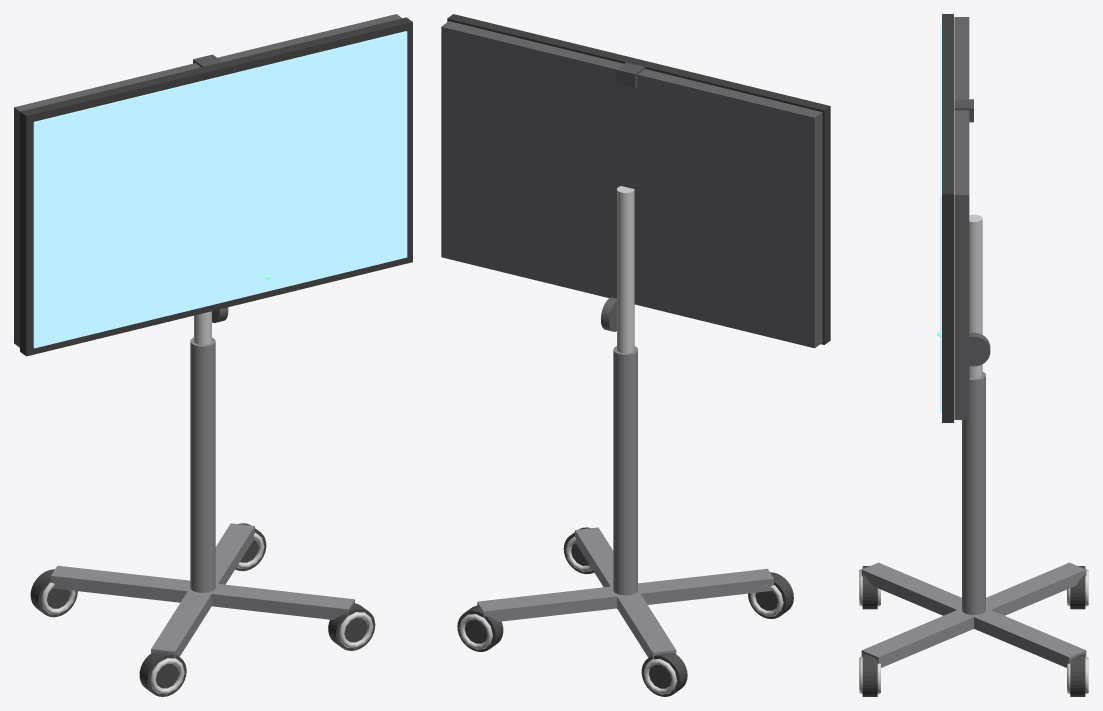
3 views of the same model, side by side, from view 1: azimuth 30°, elevation 25°; view 2: azimuth 150°, elevation 25°; view 3: azimuth 270°, elevation 25° (orthographic). The views are drawn at different scales.
Parts seen in each view (by area): view 1: TV_Screen, TV_Bezel, Pole_Fixed, Base_Y, TV_Back, Base_X, Caster_BR_Wheel, Caster_BL_Wheel, Caster_FR_Wheel; view 2: TV_Back, Base_X, Pole_Fixed, TV_Bezel, Base_Y, Pole_Inner, Caster_FR_Wheel, Caster_FL_Wheel, Caster_BR_Wheel; view 3: TV_Back, Pole_Fixed, Base_X, Base_Y, TV_Bezel, Pole_Inner, TV_Screen, Caster_FL_Wheel, Caster_BL_Wheel, Pole_Knob, Caster_FR_Wheel, Caster_BR_Wheel.
Boxes of the visible parts, x1=… form: TV_Screen: x1=33, y1=31, x2=407, y2=348; TV_Bezel: x1=20, y1=17, x2=412, y2=356; Pole_Fixed: x1=190, y1=337, x2=215, y2=592; Base_Y: x1=51, y1=565, x2=354, y2=619; TV_Back: x1=14, y1=14, x2=401, y2=347; Base_X: x1=151, y1=523, x2=254, y2=658; Caster_BR_Wheel: x1=139, y1=652, x2=186, y2=696; Caster_BL_Wheel: x1=328, y1=603, x2=375, y2=650; Caster_FR_Wheel: x1=30, y1=569, x2=77, y2=617; TV_Back: x1=441, y1=21, x2=822, y2=348; Base_X: x1=477, y1=568, x2=773, y2=621; Pole_Fixed: x1=613, y1=346, x2=637, y2=595; TV_Bezel: x1=447, y1=14, x2=830, y2=344; Base_Y: x1=575, y1=527, x2=676, y2=659; Pole_Inner: x1=617, y1=186, x2=634, y2=353; Caster_FR_Wheel: x1=641, y1=653, x2=687, y2=696; Caster_FL_Wheel: x1=457, y1=605, x2=503, y2=651; Caster_BR_Wheel: x1=748, y1=572, x2=793, y2=618; TV_Back: x1=954, y1=17, x2=969, y2=419; Pole_Fixed: x1=962, y1=372, x2=985, y2=614; Base_X: x1=861, y1=562, x2=1086, y2=667; Base_Y: x1=861, y1=562, x2=1086, y2=667; TV_Bezel: x1=942, y1=14, x2=953, y2=422; Pole_Inner: x1=969, y1=214, x2=982, y2=378; TV_Screen: x1=940, y1=24, x2=941, y2=412; Caster_FL_Wheel: x1=1070, y1=654, x2=1085, y2=696; Caster_BL_Wheel: x1=862, y1=654, x2=877, y2=696; Pole_Knob: x1=969, y1=332, x2=990, y2=366; Caster_FR_Wheel: x1=1070, y1=566, x2=1085, y2=609; Caster_BR_Wheel: x1=862, y1=566, x2=877, y2=609.
Bounding box in the file's own units: 0.985 × 1.4 × 0.531.
